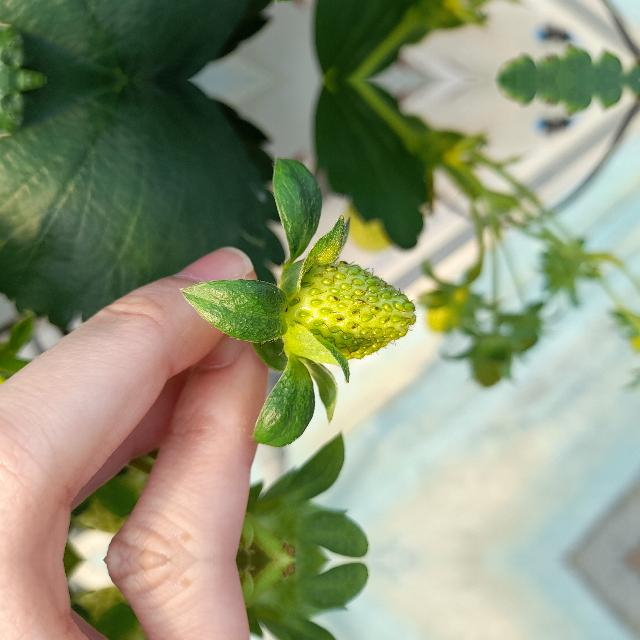Health_25: (285, 260, 417, 360)
